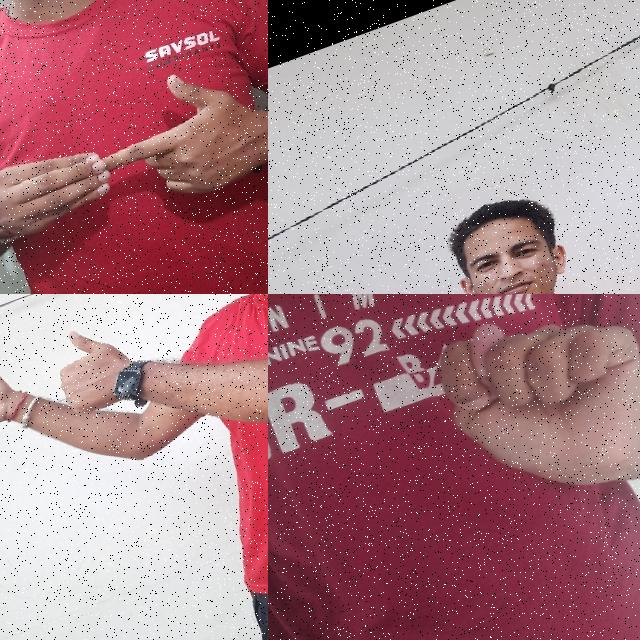Dulya: (412, 294, 640, 539)
Five Fathers: (0, 41, 268, 277)
Thumbs Up: (32, 306, 152, 430), (0, 343, 29, 450)
